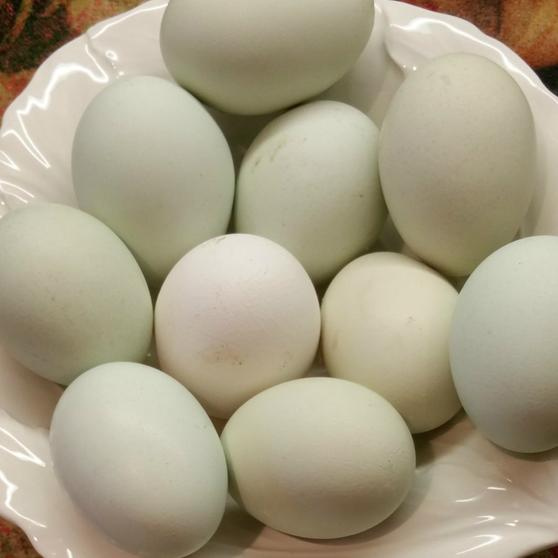egg: (380, 51, 527, 278), (157, 232, 323, 396)
